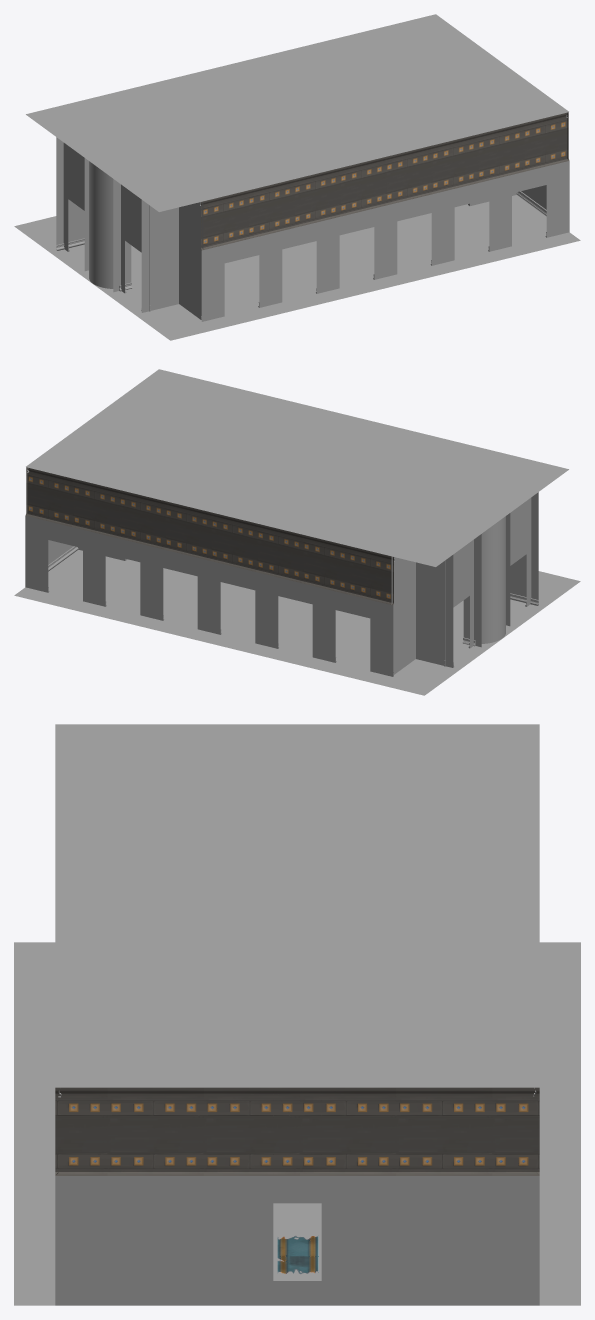
File: SM_MurrayCircle_PuzzleRoom_01.fbx
3 views of the same model, one above another, from view 1: azimuth 30°, elevation 25°; view 2: azimuth 150°, elevation 25°; view 3: azimuth 270°, elevation 25° (orthographic). The views are drawn at different scales.
Parts seen in each view (by area): view 1: SM_Murray_Circle_Puzzle_PuzzleRoom_Roof_01, SM_Murray_Circle_Puzzle_PuzzleRoom_SideWall_02, SM_Murray_Circle_Puzzle_PuzzleRoom_Floor_01, SM_Murray_Circle_Puzzle_PuzzleRoom_CornerWall_02, SM_Murray_Circle_Puzzle_PuzzleRoom_WallCircle_01, SM_Murray_Circle_Puzzle_PuzzleRoom_SideWall_04, SM_Murray_Circle_Puzzle_PuzzleRoom_SideWall_03, SM_Murray_Circle_Puzzle_PuzzleRoom_CornerWall_01, SM_Murray_Circle_Puzzle_PuzzleRoom_SideWall_05, SM_Murray_Circle_Puzzle_PuzzleRoom_Wall_02; view 2: SM_Murray_Circle_Puzzle_PuzzleRoom_Roof_01, SM_Murray_Circle_Puzzle_PuzzleRoom_SideWall_01, SM_Murray_Circle_Puzzle_PuzzleRoom_Floor_01, SM_Murray_Circle_Puzzle_PuzzleRoom_CornerWall_01, SM_Murray_Circle_Puzzle_PuzzleRoom_WallCircle_01, SM_Murray_Circle_Puzzle_PuzzleRoom_SideWall_04, SM_Murray_Circle_Puzzle_PuzzleRoom_SideWall_05, SM_Murray_Circle_Puzzle_PuzzleRoom_CornerWall_02, SM_Murray_Circle_Puzzle_PuzzleRoom_SideWall_03, SM_Murray_Circle_Puzzle_PuzzleRoom_Wall_02; view 3: SM_Murray_Circle_Puzzle_PuzzleRoom_Roof_01, SM_Murray_Circle_Puzzle_PuzzleRoom_Wall_02, SM_Murray_Circle_Puzzle_PuzzleRoom_Floor_01, SM_Roof_Trim_01, SM_Murray_Circle_Puzzle_Room_Carpet_01.
Boxes of the visible parts, x1,y1,x2,y2 form: SM_Murray_Circle_Puzzle_PuzzleRoom_Roof_01: (26, 14, 568, 211); SM_Murray_Circle_Puzzle_PuzzleRoom_SideWall_02: (201, 112, 569, 321); SM_Murray_Circle_Puzzle_PuzzleRoom_Floor_01: (14, 195, 580, 340); SM_Murray_Circle_Puzzle_PuzzleRoom_CornerWall_02: (141, 200, 203, 319); SM_Murray_Circle_Puzzle_PuzzleRoom_WallCircle_01: (89, 161, 113, 288); SM_Murray_Circle_Puzzle_PuzzleRoom_SideWall_04: (84, 158, 131, 292); SM_Murray_Circle_Puzzle_PuzzleRoom_SideWall_03: (63, 143, 84, 251); SM_Murray_Circle_Puzzle_PuzzleRoom_CornerWall_01: (56, 137, 84, 250); SM_Murray_Circle_Puzzle_PuzzleRoom_SideWall_05: (121, 184, 149, 311); SM_Murray_Circle_Puzzle_PuzzleRoom_Wall_02: (521, 112, 568, 209); SM_Murray_Circle_Puzzle_PuzzleRoom_Roof_01: (26, 369, 568, 566); SM_Murray_Circle_Puzzle_PuzzleRoom_SideWall_01: (25, 467, 393, 676); SM_Murray_Circle_Puzzle_PuzzleRoom_Floor_01: (14, 549, 580, 695); SM_Murray_Circle_Puzzle_PuzzleRoom_CornerWall_01: (391, 555, 453, 674); SM_Murray_Circle_Puzzle_PuzzleRoom_WallCircle_01: (481, 516, 505, 643); SM_Murray_Circle_Puzzle_PuzzleRoom_SideWall_04: (463, 513, 510, 647); SM_Murray_Circle_Puzzle_PuzzleRoom_SideWall_05: (510, 498, 531, 606); SM_Murray_Circle_Puzzle_PuzzleRoom_CornerWall_02: (510, 492, 538, 605); SM_Murray_Circle_Puzzle_PuzzleRoom_SideWall_03: (445, 539, 473, 666); SM_Murray_Circle_Puzzle_PuzzleRoom_Wall_02: (26, 467, 73, 564); SM_Murray_Circle_Puzzle_PuzzleRoom_Roof_01: (55, 724, 539, 1087); SM_Murray_Circle_Puzzle_PuzzleRoom_Wall_02: (55, 1087, 539, 1305); SM_Murray_Circle_Puzzle_PuzzleRoom_Floor_01: (14, 942, 580, 1305); SM_Roof_Trim_01: (55, 730, 539, 1097); SM_Murray_Circle_Puzzle_Room_Carpet_01: (277, 1235, 318, 1274).
Size of the model in its own units: 3572 by 1001 by 2357.
